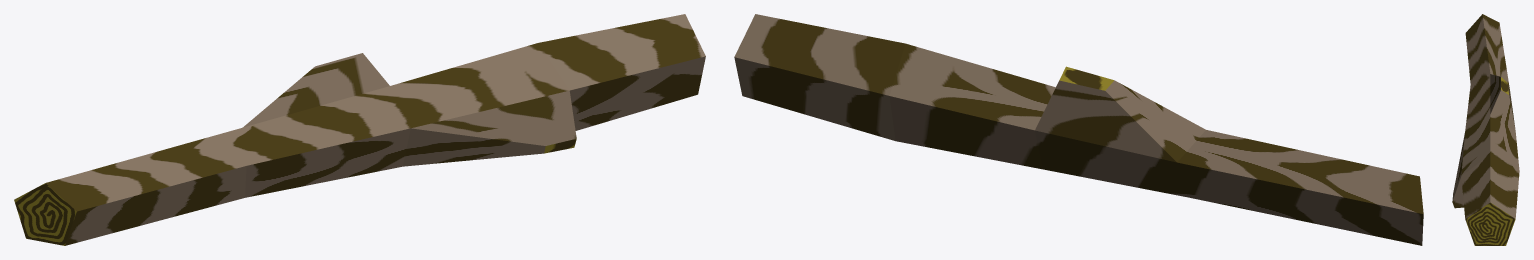
Rendered from Model_Patyk_2.fbx.
3 views of the same model, side by side, from view 1: azimuth 30°, elevation 25°; view 2: azimuth 150°, elevation 25°; view 3: azimuth 270°, elevation 25° (orthographic). The views are drawn at different scales.
Visible parts, largest first — view 1: Cylinder; view 2: Cylinder; view 3: Cylinder.
Boxes of the visible parts, <box> form: Cylinder: <box>14,14,705,245</box>; Cylinder: <box>734,14,1423,245</box>; Cylinder: <box>1452,14,1519,245</box>.
Bounding box in the file's own units: 27.42 × 4.31 × 3.94.
